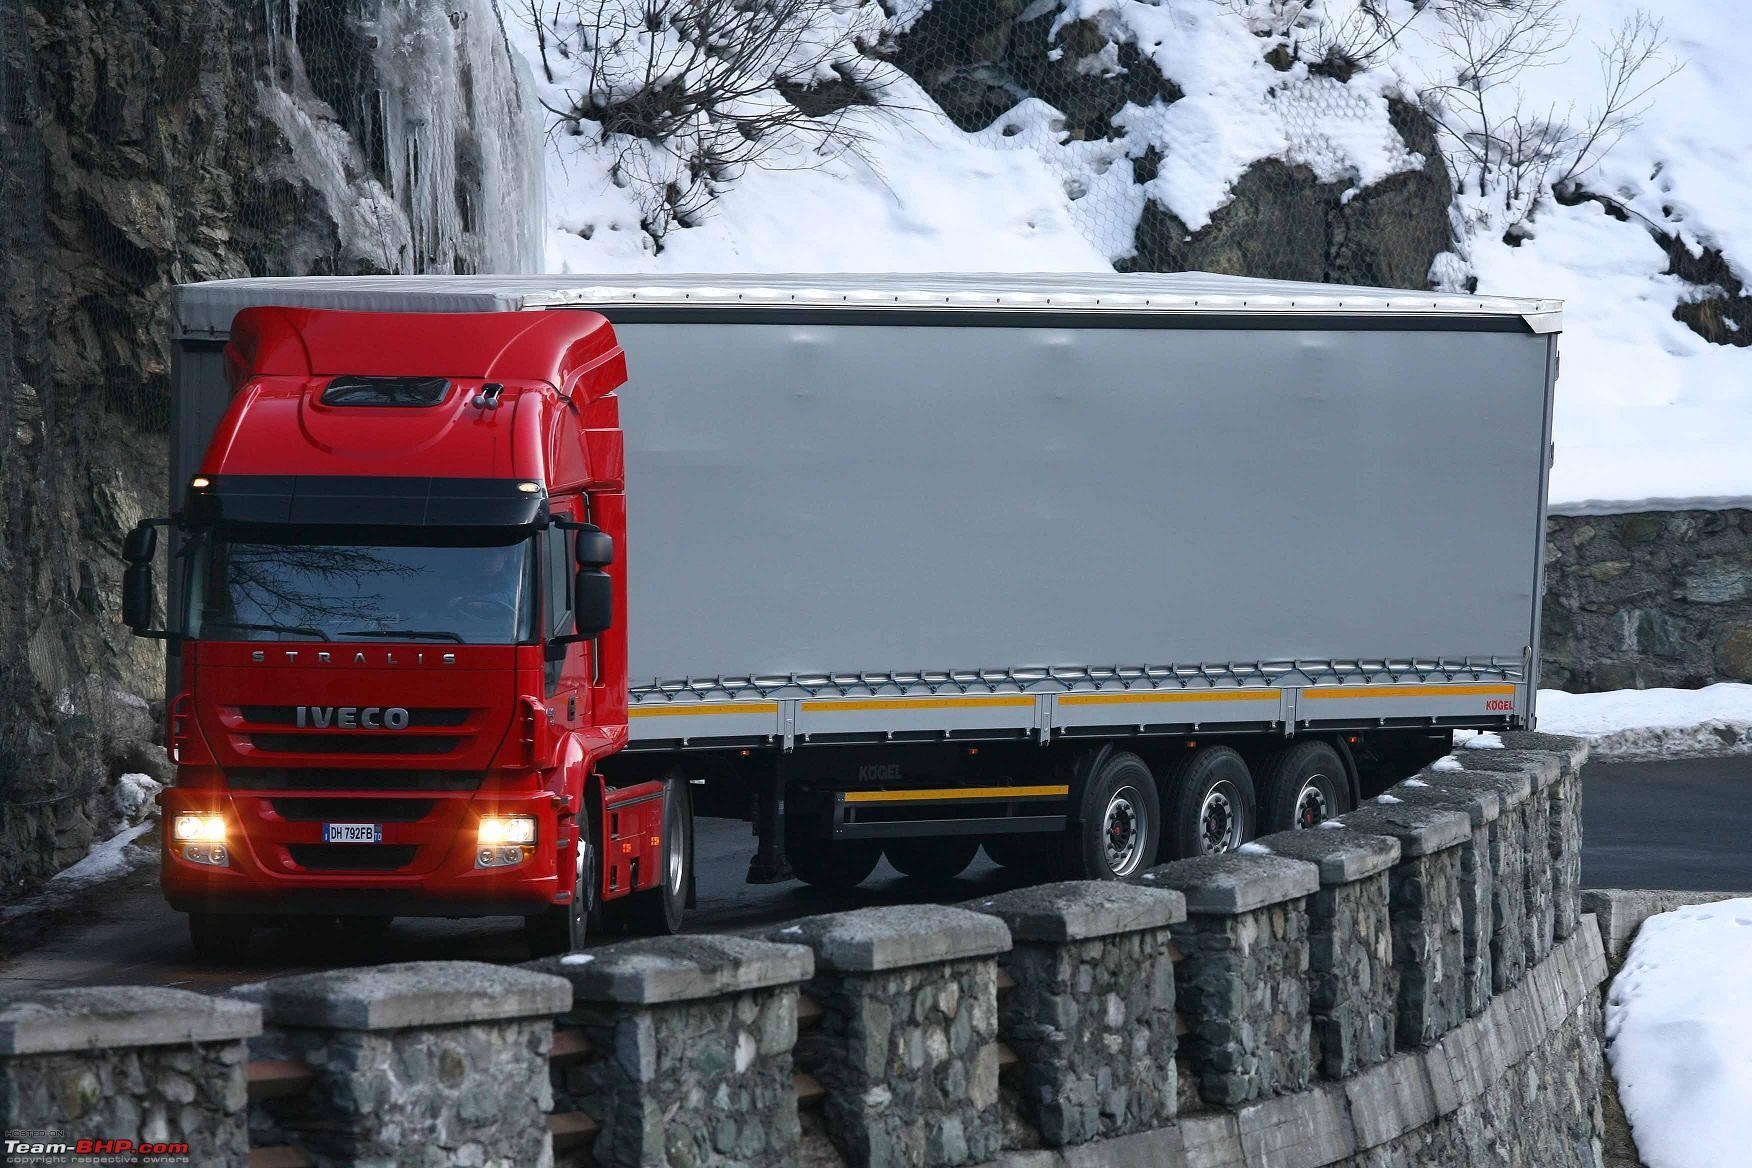heavy truck: (142, 235, 1506, 897)
